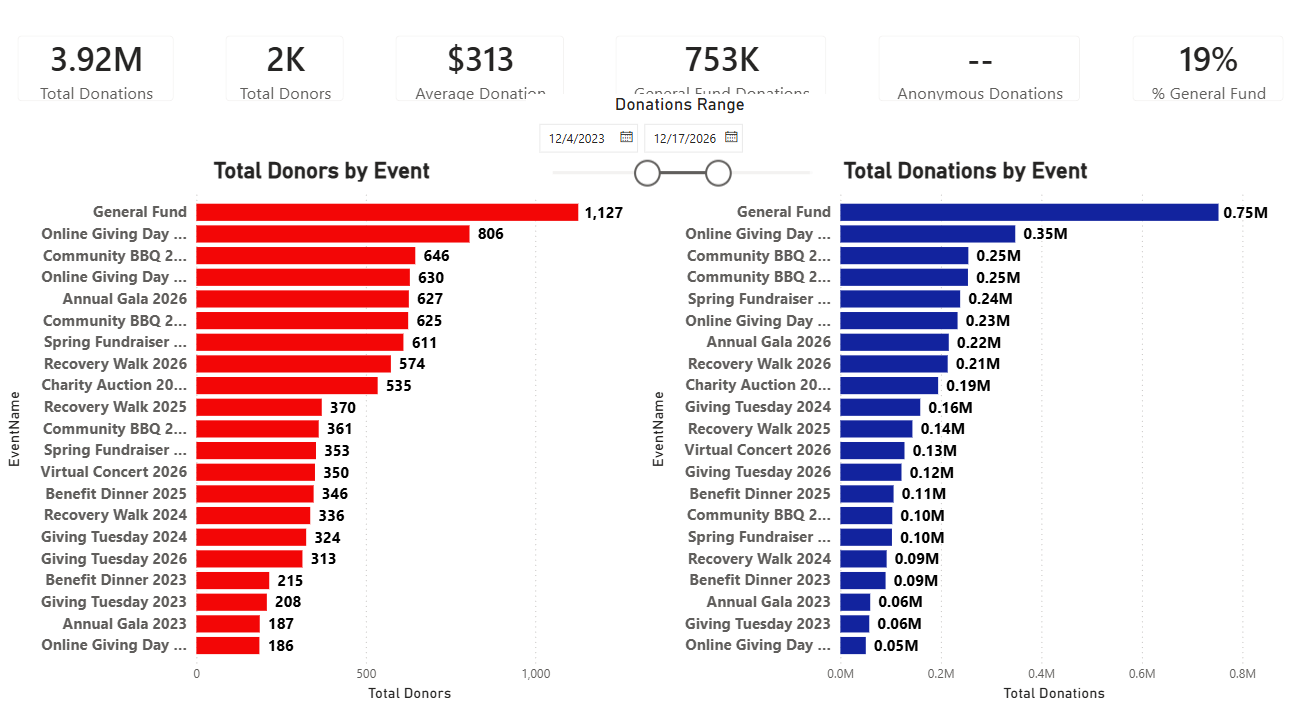

The page's visual inventory and layout, read from the dashboard file:
{"tool":"powerbi","page":{"name":"Funding","canvas":[1280,720],"ordinal":5},"visuals":[{"type":"cardVisual","fields":{"Data":["My Measures.Total Donations"]},"box":[14.7,28,186.5,98.6],"z":0},{"type":"cardVisual","fields":{"Data":["My Measures.Total Donors"]},"box":[217.1,28,149.2,98.6],"z":1000},{"type":"cardVisual","fields":{"Data":["My Measures.Average Donation"]},"box":[382.3,28,198.5,98.6],"z":2000},{"type":"cardVisual","fields":{"Data":["My Measures.Anonymous Donations"]},"box":[852.4,28,230.4,98.6],"z":3000},{"type":"cardVisual","fields":{"Data":["My Measures.% General Fund"]},"box":[1098.9,28,181.1,98.6],"z":4000},{"type":"cardVisual","fields":{"Data":["My Measures.General Fund Donations"]},"box":[596.7,28,239.8,98.6],"z":5000},{"type":"barChart","title":"Total Donors by Event","fields":{"Y":["My Measures.Total Donors"],"Category":["DimFundraisingEvent.EventName"]},"box":[14.7,163.8,626,534.1],"z":6000},{"type":"barChart","title":"Total Donations by Event","fields":{"Category":["DimFundraisingEvent.EventName"],"Y":["My Measures.Total Donations"]},"box":[640.7,163.8,626,534.1],"z":7000},{"type":"slicer","title":"Donations Range","fields":{"Values":["DimDate.FullDate"]},"box":[526.1,102.6,299.7,99.9],"z":8000}]}

Visuals, with their boxes in screenshot pixels (x1, y1, x2, y2), scaled from the page's 1280x720 canvas onto the 1295x724 screenshot:
cardVisual - My Measures.Total Donations: rect(15, 28, 204, 127)
cardVisual - My Measures.Total Donors: rect(220, 28, 371, 127)
cardVisual - My Measures.Average Donation: rect(387, 28, 588, 127)
cardVisual - My Measures.Anonymous Donations: rect(862, 28, 1095, 127)
cardVisual - My Measures.% General Fund: rect(1112, 28, 1294, 127)
cardVisual - My Measures.General Fund Donations: rect(604, 28, 846, 127)
"Total Donors by Event" barChart: rect(15, 165, 648, 702)
"Total Donations by Event" barChart: rect(648, 165, 1282, 702)
"Donations Range" slicer: rect(532, 103, 835, 204)
